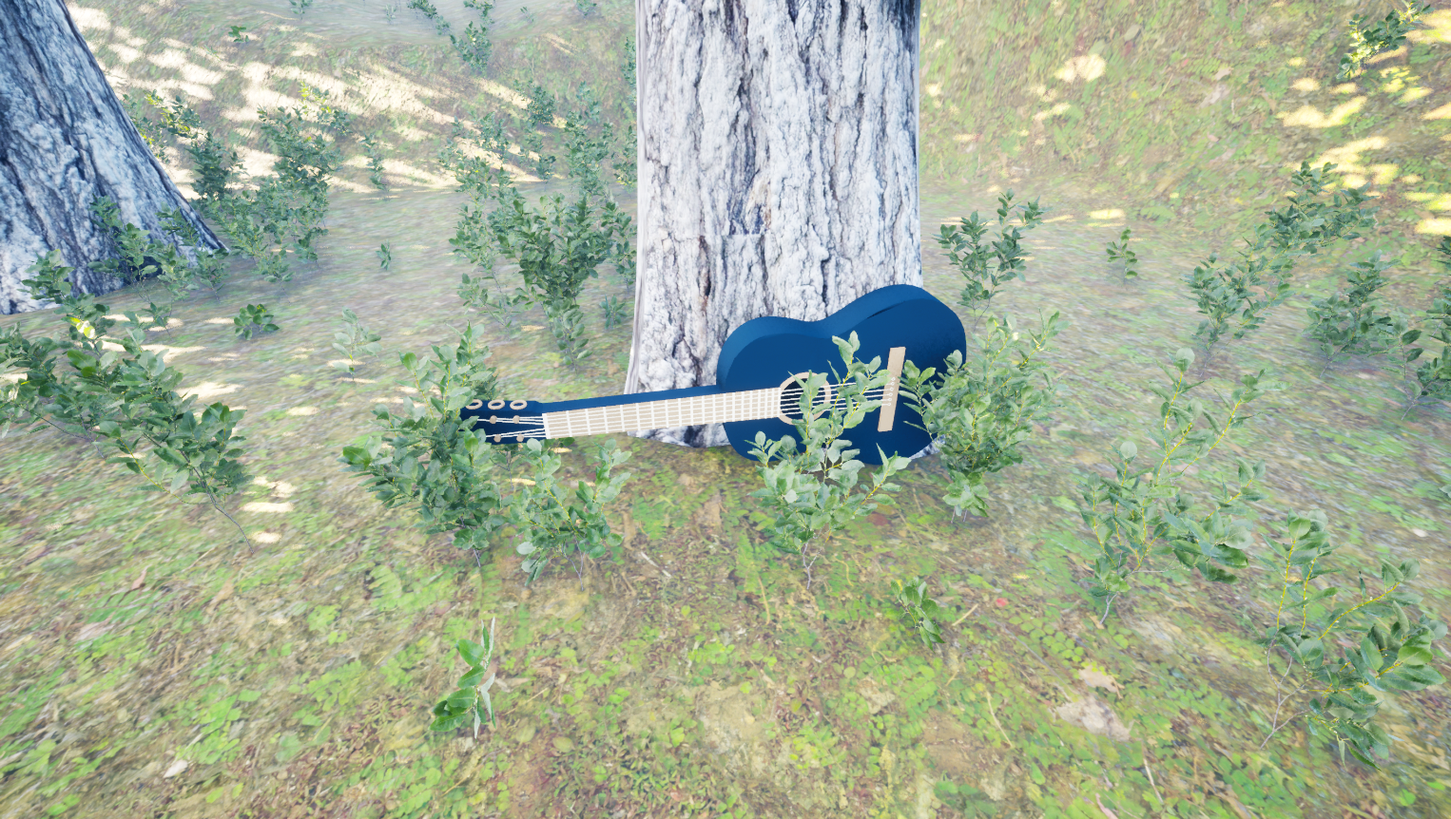Guitar: (420, 279, 985, 522)
